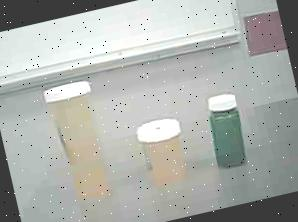Bottle A: (33, 72, 129, 213)
Bottle B: (131, 110, 199, 198)
Bottle C: (197, 86, 261, 182)
